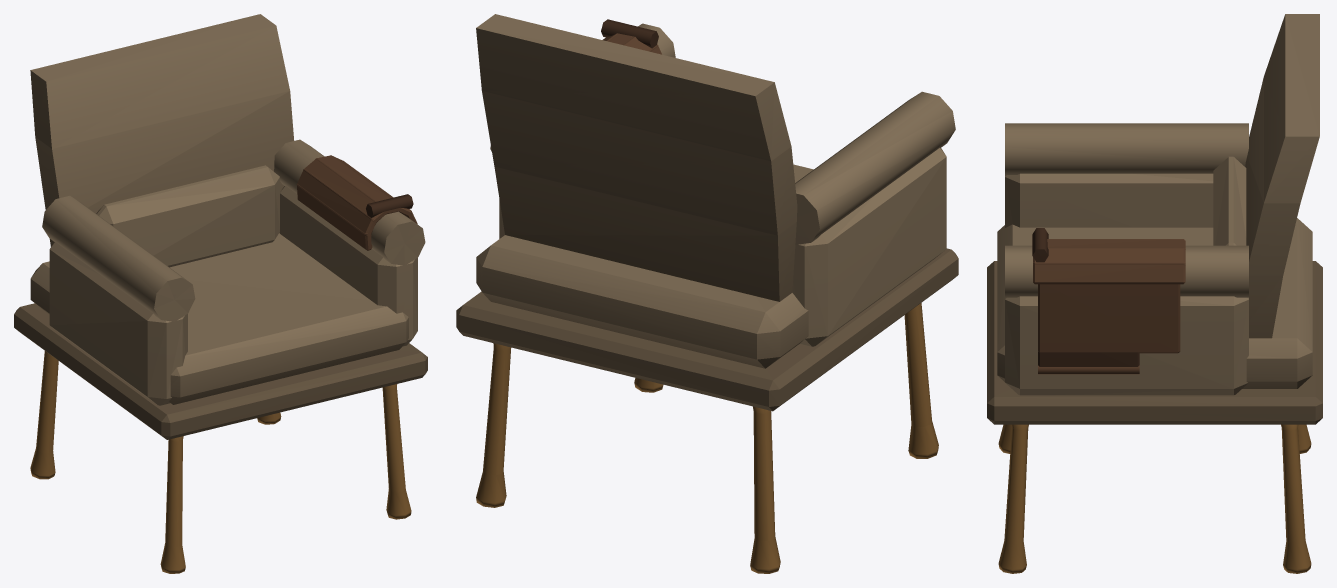
File: lounge_chair.glb
3 views of the same model, side by side, from view 1: azimuth 30°, elevation 25°; view 2: azimuth 150°, elevation 25°; view 3: azimuth 270°, elevation 25° (orthographic). The views are drawn at different scales.
Parts seen in each view (by area): view 1: lounge_chair; view 2: lounge_chair; view 3: lounge_chair.
Part boxes in pixels (x1=…): lounge_chair: x1=14, y1=14, x2=427, y2=573; lounge_chair: x1=456, y1=14, x2=958, y2=573; lounge_chair: x1=987, y1=14, x2=1322, y2=573.
Bounding box in the file's own units: 0.6872 × 0.9418 × 0.66.
